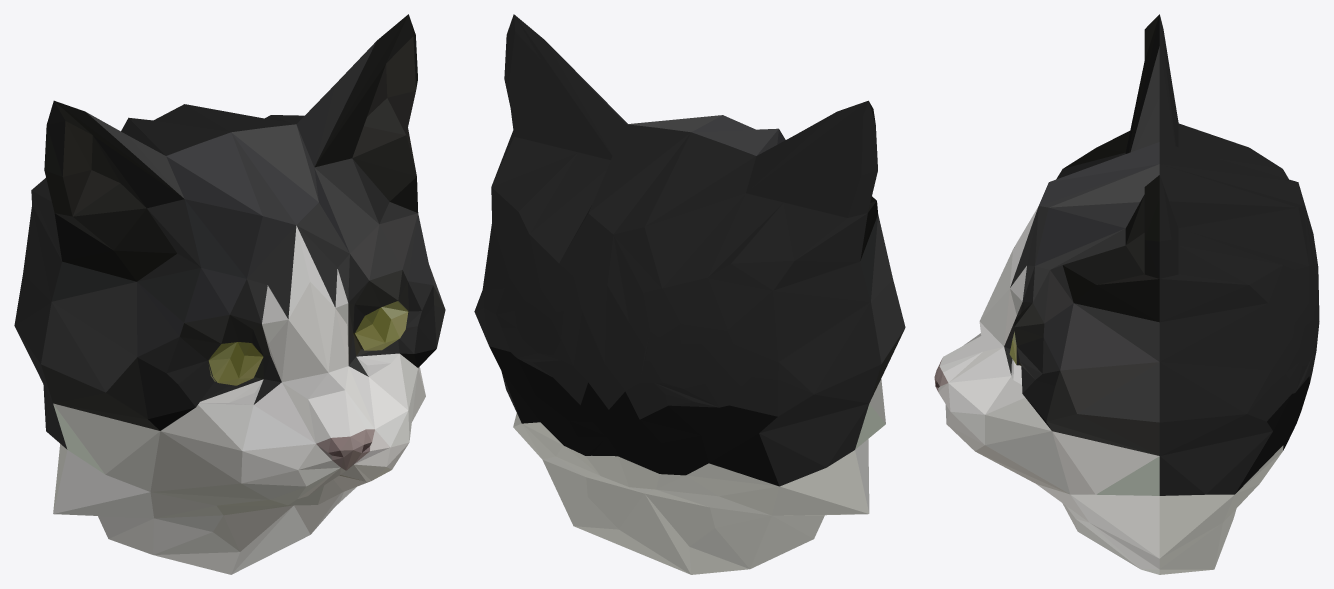
Rendered from cat-head-approved.glb.
3 views of the same model, side by side, from view 1: azimuth 30°, elevation 25°; view 2: azimuth 150°, elevation 25°; view 3: azimuth 270°, elevation 25° (orthographic). The views are drawn at different scales.
Visible parts, largest first — view 1: Cat • connected head, ears & neck, Cat • faceted iris L, Cat • faceted iris R; view 2: Cat • connected head, ears & neck; view 3: Cat • connected head, ears & neck.
Boxes of the visible parts, left/top/right/bottom form: Cat • connected head, ears & neck: left=14, top=14, right=445, bottom=574; Cat • faceted iris L: left=208, top=342, right=263, bottom=385; Cat • faceted iris R: left=354, top=301, right=408, bottom=350; Cat • connected head, ears & neck: left=474, top=14, right=905, bottom=574; Cat • connected head, ears & neck: left=934, top=14, right=1319, bottom=574.
Bounding box in the file's own units: 0.2008 × 0.261 × 0.1895.
